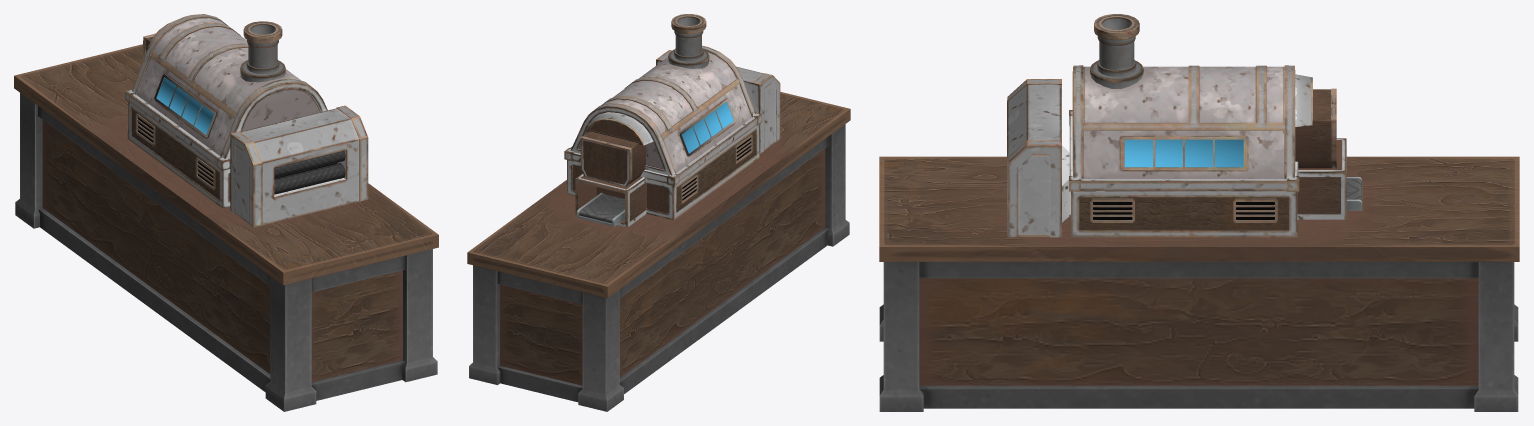
File: BudayMakine.fbx
3 views of the same model, side by side, from view 1: azimuth 30°, elevation 25°; view 2: azimuth 150°, elevation 25°; view 3: azimuth 270°, elevation 25° (orthographic). The views are drawn at different scales.
Parts seen in each view (by area): view 1: BiraMakinesi_masa.001, Cube.001; view 2: BiraMakinesi_masa.001, Cube.001; view 3: BiraMakinesi_masa.001, Cube.001.
Part boxes in pixels (x1=…): BiraMakinesi_masa.001: x1=14, y1=14, x2=438, y2=411; Cube.001: x1=156, y1=77, x2=213, y2=134; BiraMakinesi_masa.001: x1=467, y1=14, x2=850, y2=411; Cube.001: x1=682, y1=102, x2=733, y2=153; BiraMakinesi_masa.001: x1=879, y1=14, x2=1519, y2=411; Cube.001: x1=1124, y1=139, x2=1243, y2=167.
Size of the model in its own units: 156 by 279 by 468.
